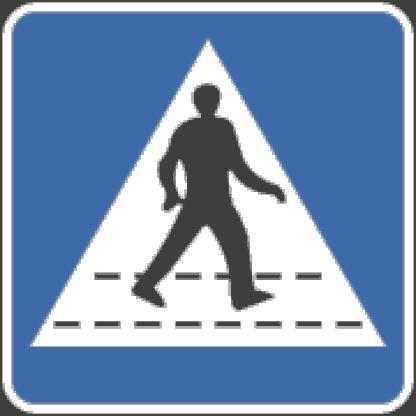Pedestrian Crossing: (28, 38, 402, 374)
